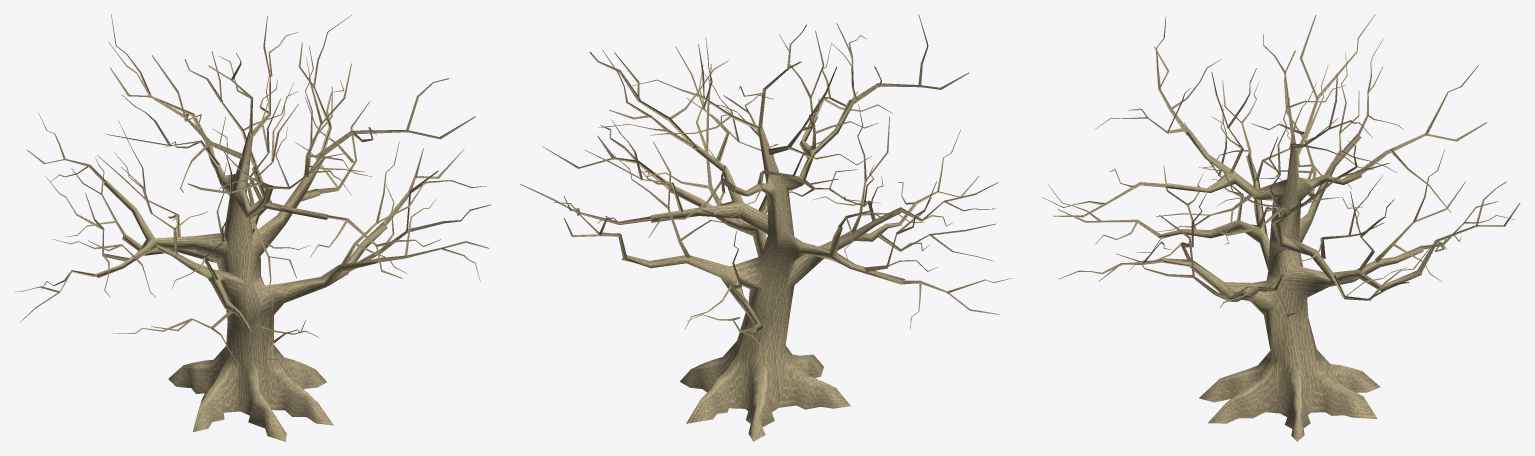
File: INST_HTOWN_TREEB_LOD1.fbx
3 views of the same model, side by side, from view 1: azimuth 30°, elevation 25°; view 2: azimuth 150°, elevation 25°; view 3: azimuth 270°, elevation 25° (orthographic). The views are drawn at different scales.
Parts seen in each view (by area): view 1: INST_HTOWN_TREEB_LOD1; view 2: INST_HTOWN_TREEB_LOD1; view 3: INST_HTOWN_TREEB_LOD1.
Part boxes in pixels (box(x1,y1,x2,y2)): INST_HTOWN_TREEB_LOD1: box(15, 14, 491, 441); INST_HTOWN_TREEB_LOD1: box(520, 14, 1012, 441); INST_HTOWN_TREEB_LOD1: box(1041, 14, 1520, 441).
Size of the model in its own units: 118247 by 90744 by 110502.
6 materials, 6 textured.
